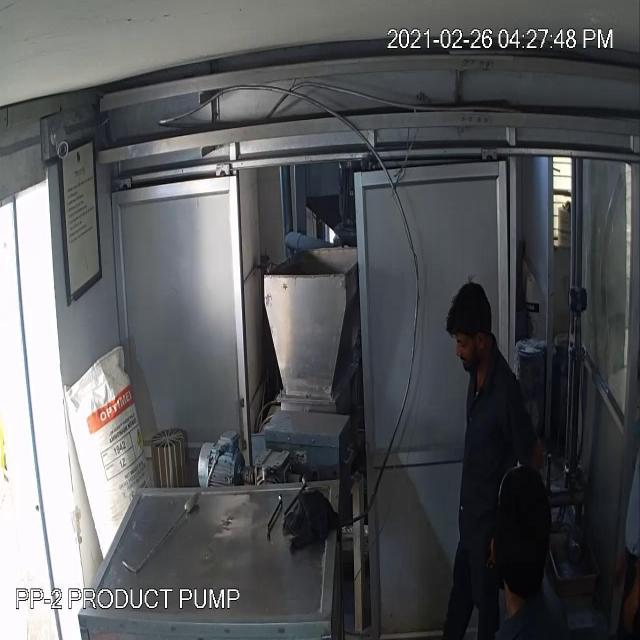no-helmet: (444, 277, 498, 360)
